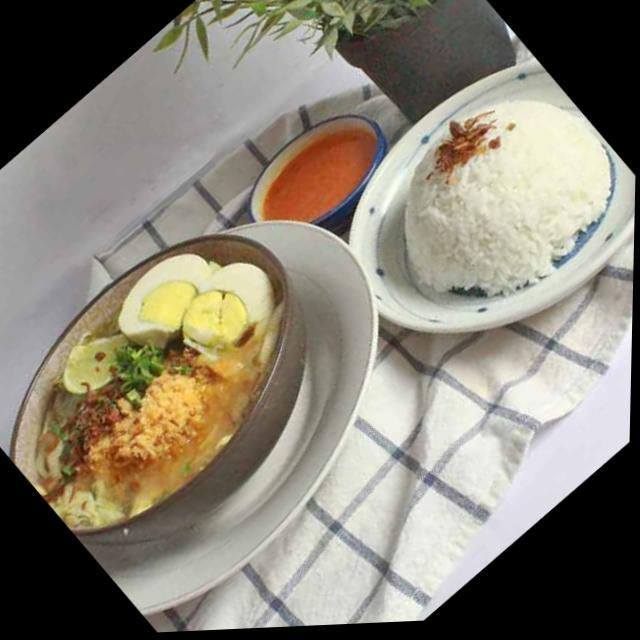Soto: (29, 248, 282, 532)
